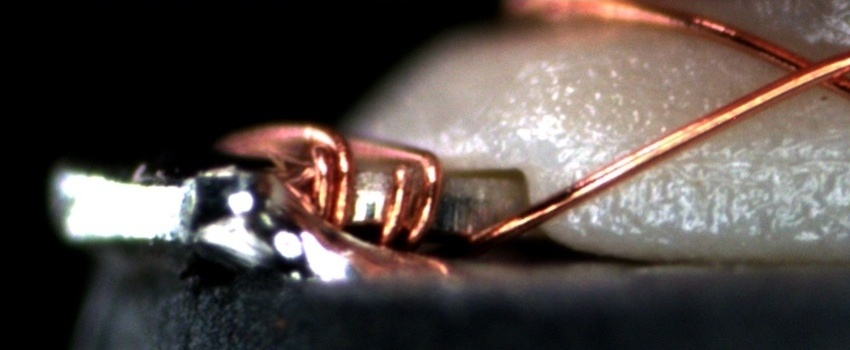CL: (763, 39, 847, 99)
DL: (672, 132, 849, 196)
TE: (217, 119, 450, 245)
